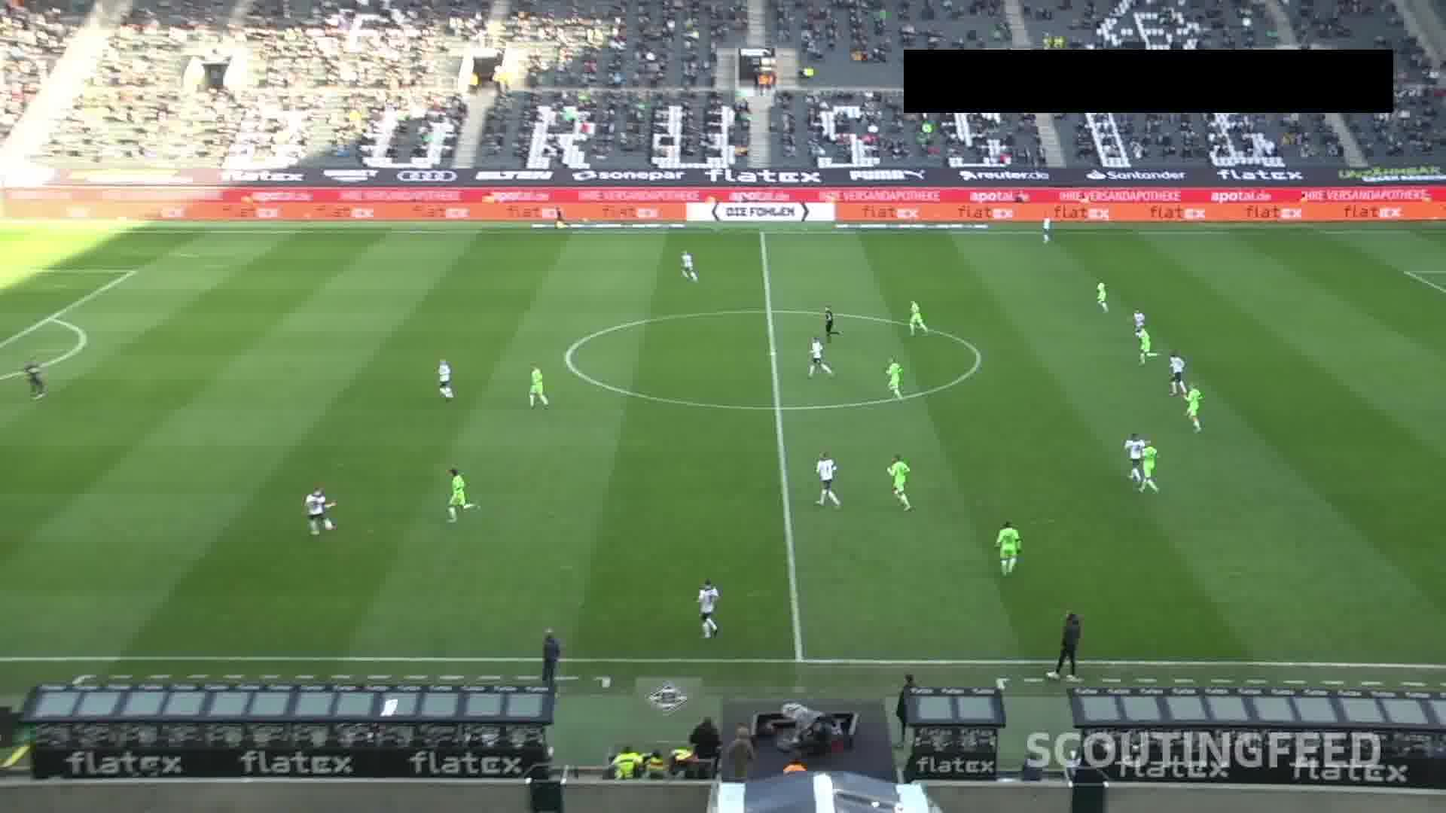ball: (328, 512, 350, 533)
coach_staff: (1047, 603, 1091, 686), (536, 626, 570, 694)
goalkeeper: (14, 353, 48, 400)
player: (694, 576, 723, 644), (296, 482, 328, 543), (990, 519, 1022, 576), (444, 467, 474, 522), (812, 447, 837, 502), (1184, 389, 1213, 434), (885, 455, 911, 504), (434, 351, 457, 405), (525, 361, 549, 410), (880, 358, 908, 398), (902, 296, 930, 335), (1125, 424, 1143, 484), (805, 339, 832, 376), (1141, 448, 1164, 491), (677, 241, 698, 285), (1088, 276, 1111, 312), (1166, 348, 1184, 393), (1136, 322, 1151, 359), (1038, 211, 1053, 246)
referee: (815, 296, 842, 341), (554, 208, 571, 236)
